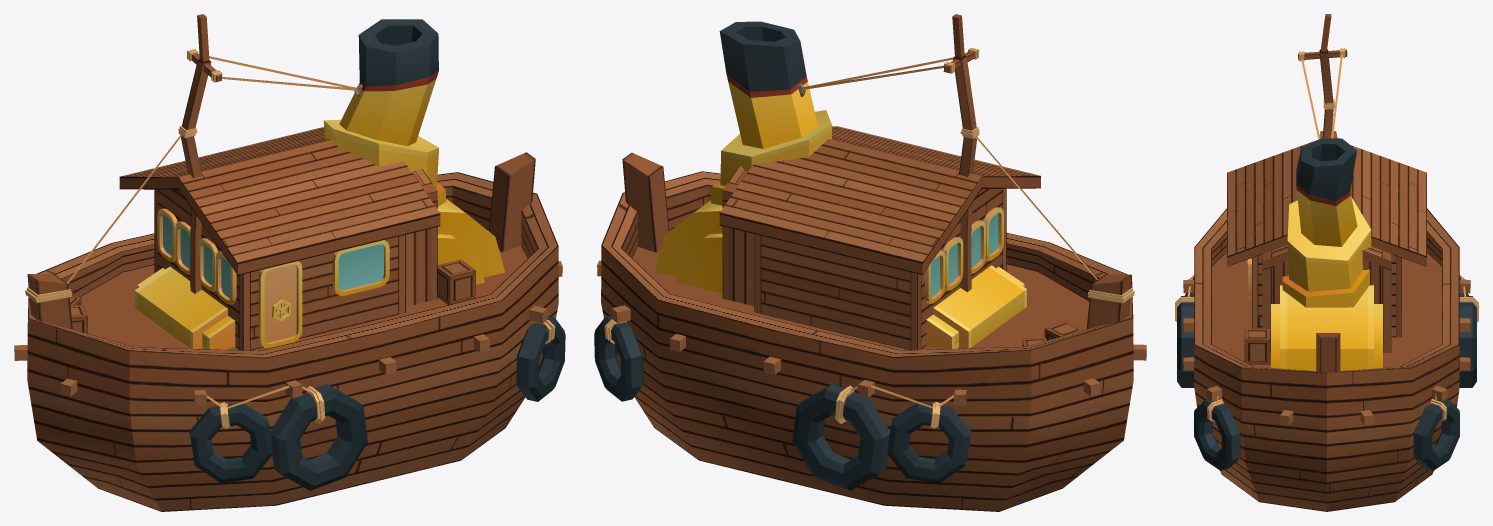
Rendered from SM_Boat.fbx.
3 renders of one model, left to right at view 1: azimuth 30°, elevation 25°; view 2: azimuth 150°, elevation 25°; view 3: azimuth 270°, elevation 25°, orthographic. The views are drawn at different scales.
Visible parts, largest first — view 1: SM_Boat; view 2: SM_Boat; view 3: SM_Boat.
Boxes of the visible parts, x1,y1,x2,y2 form: SM_Boat: (14,14,565,511); SM_Boat: (594,14,1146,511); SM_Boat: (1175,14,1478,511).
Size of the model in its own units: 303 by 253 by 184.
